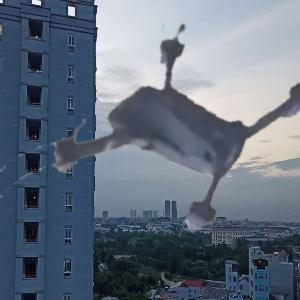drone: (6, 10, 295, 299)
